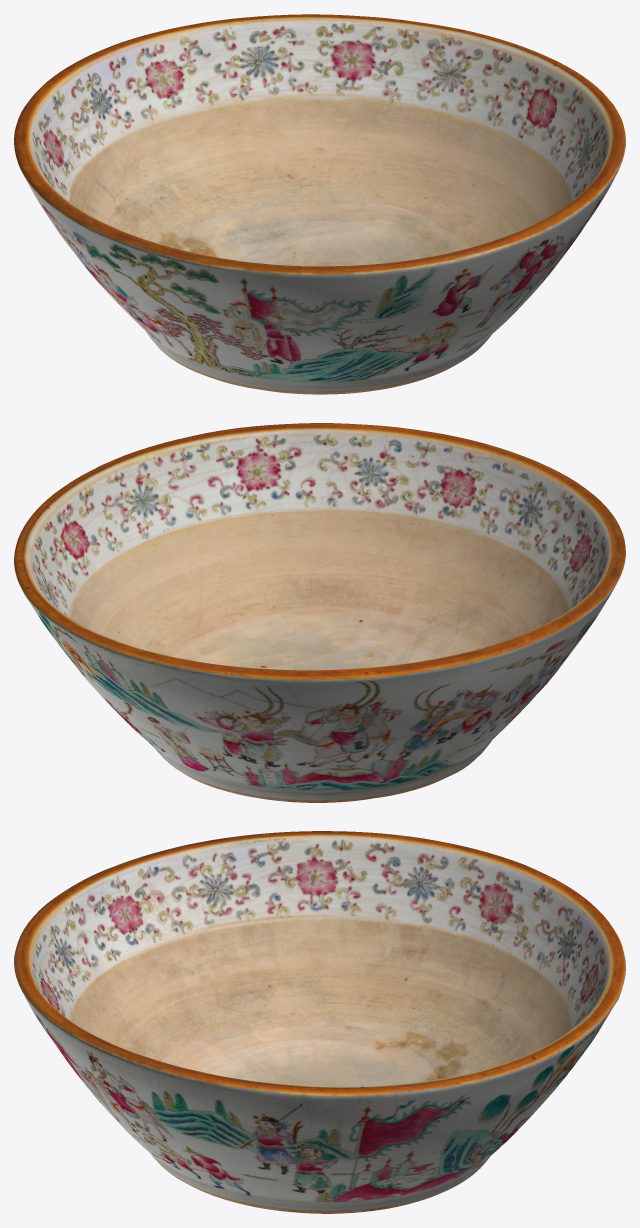
3 views of the same model, one above another, from view 1: azimuth 30°, elevation 25°; view 2: azimuth 150°, elevation 25°; view 3: azimuth 270°, elevation 25° (orthographic).
Visible parts, largest first — view 1: Group36159Shape; view 2: Group36159Shape; view 3: Group36159Shape.
Part boxes in pixels (box(x1,y1,x2,y2)): Group36159Shape: box(14, 14, 625, 394); Group36159Shape: box(14, 423, 625, 802); Group36159Shape: box(14, 831, 625, 1213).
Size of the model in its own units: 0.4131 by 0.1409 by 0.414.
1 material, 1 textured.
